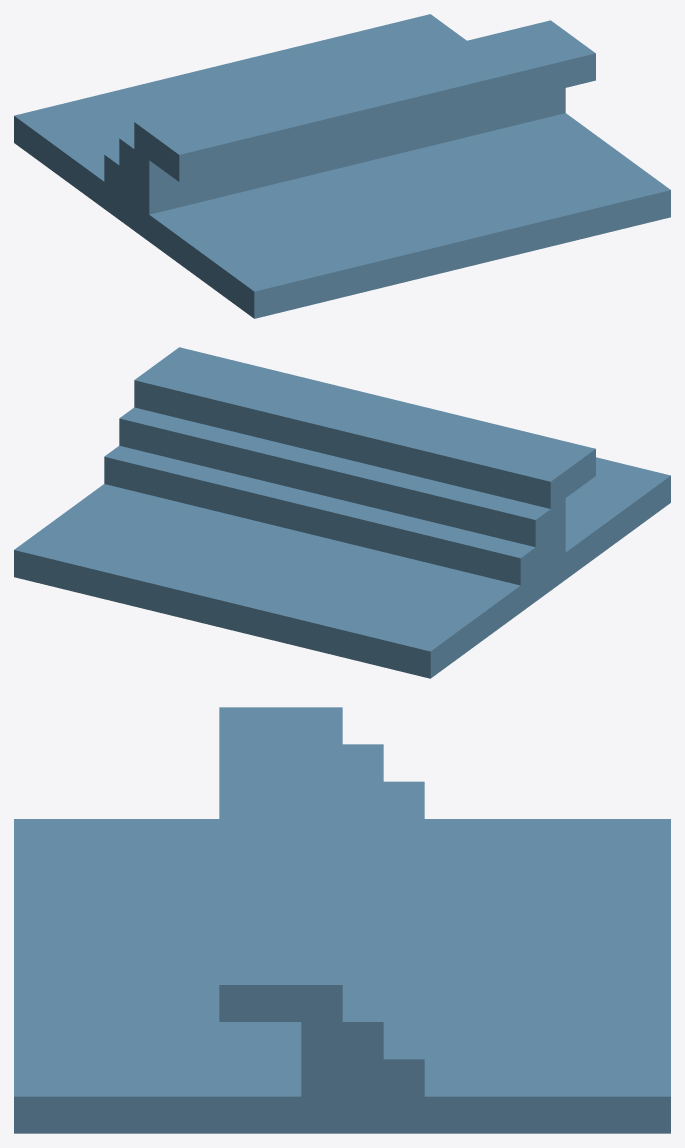
File: water-05.obj
3 renders of one model, top to bottom at view 1: azimuth 30°, elevation 25°; view 2: azimuth 150°, elevation 25°; view 3: azimuth 270°, elevation 25°, orthographic. The views are drawn at different scales.
Bounding box in the file's own units: 16 × 4 × 16.
Materials: 1 (1 with a texture image).
